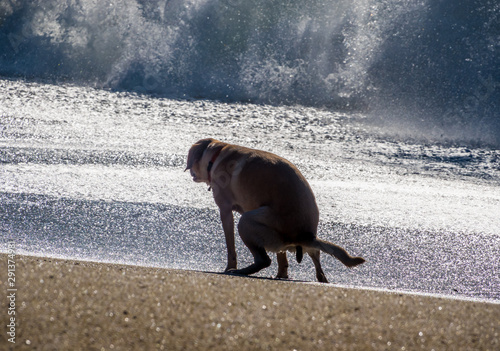dog_pooping: (181, 136, 369, 287)
